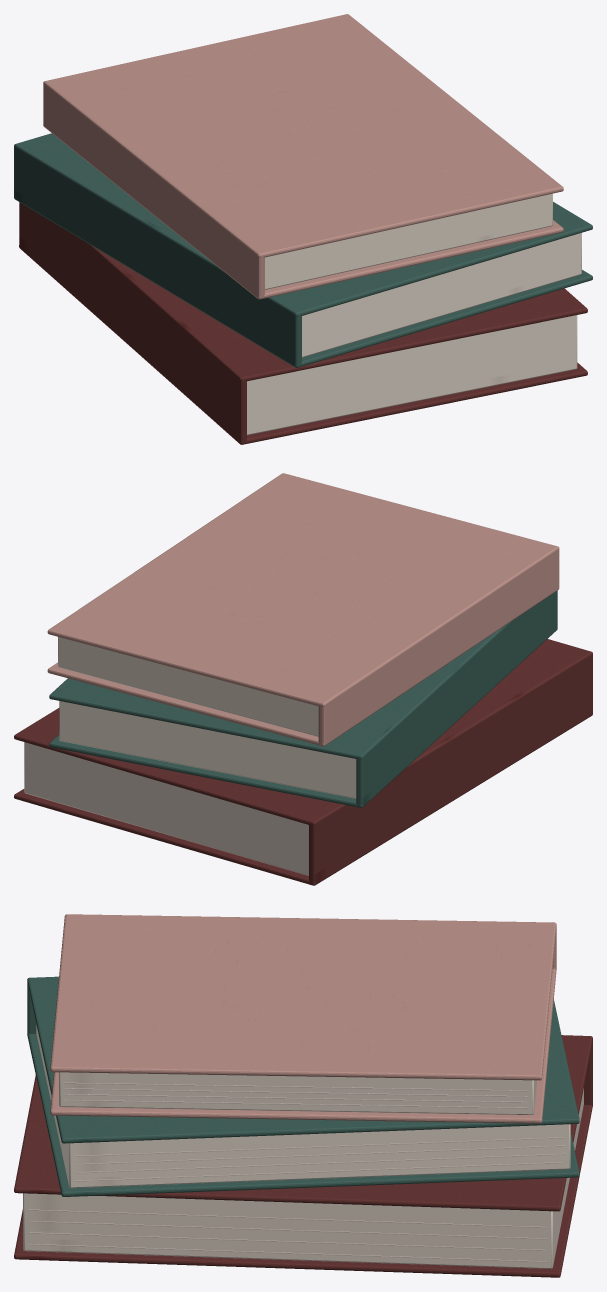
File: Books.fbx
The picture shows the model from 3 angles, top to bottom: view 1: azimuth 30°, elevation 25°; view 2: azimuth 150°, elevation 25°; view 3: azimuth 270°, elevation 25°; orthographic projection. The views are drawn at different scales.
Parts seen in each view (by area): view 1: Books; view 2: Books; view 3: Books.
Part boxes in pixels (x1=…): Books: x1=14, y1=14, x2=592, y2=444; Books: x1=14, y1=473, x2=592, y2=885; Books: x1=14, y1=914, x2=592, y2=1277.
Bounding box in the file's own units: 0.16 × 0.0741 × 0.2059.
